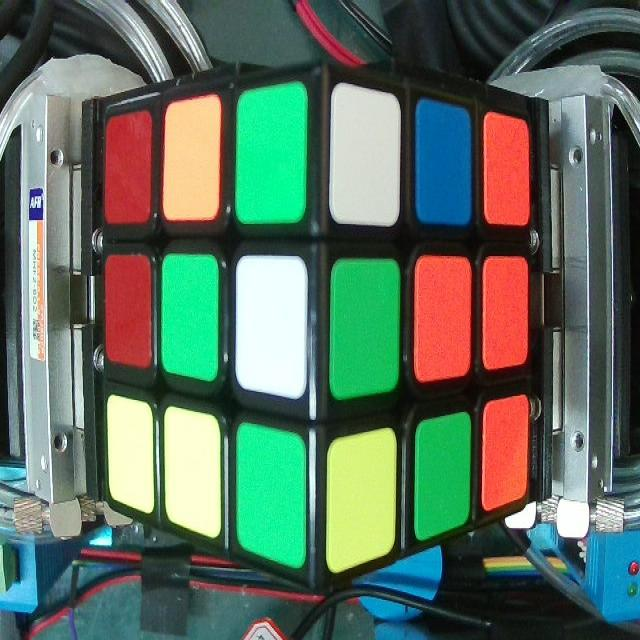b: (419, 108, 472, 221)
g: (332, 268, 399, 390), (239, 96, 303, 219), (237, 437, 303, 556), (162, 258, 214, 371), (417, 426, 468, 525)
o: (418, 262, 468, 372), (167, 109, 218, 216), (485, 113, 530, 223), (484, 262, 528, 366), (483, 404, 527, 495)
r: (107, 259, 152, 360), (107, 121, 149, 222)
w: (332, 91, 401, 224), (237, 264, 306, 392)
y: (325, 442, 394, 550), (166, 425, 218, 519), (108, 415, 152, 499)
